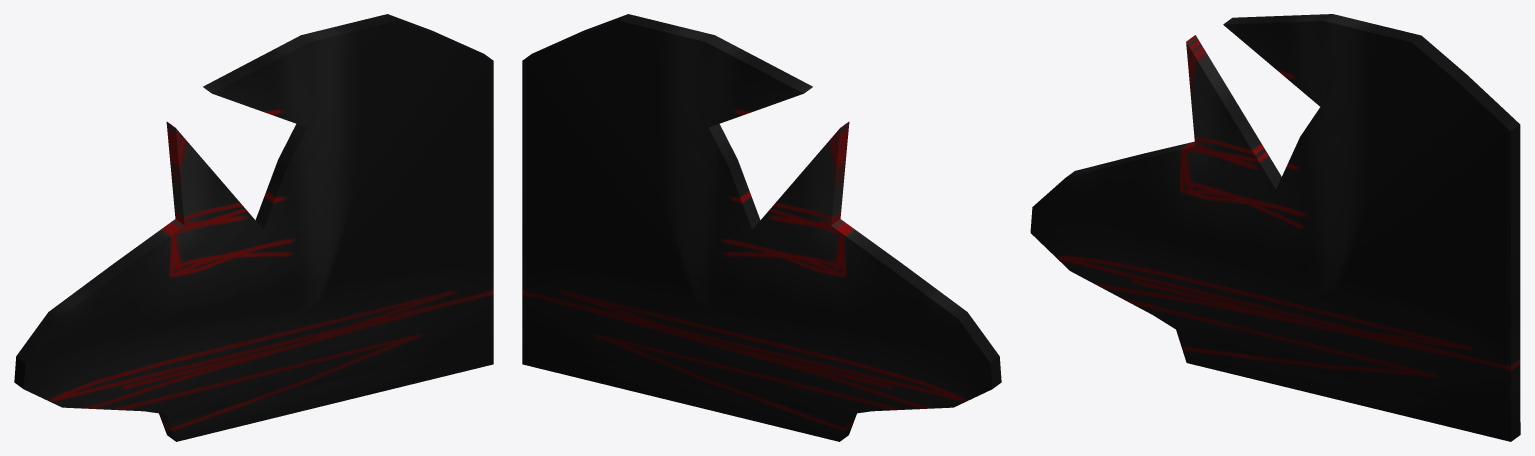
File: Puzzle5.fbx
3 views of the same model, side by side, from view 1: azimuth 30°, elevation 25°; view 2: azimuth 150°, elevation 25°; view 3: azimuth 330°, elevation 25° (orthographic). The views are drawn at different scales.
Visible parts, largest first — view 1: Cube.006; view 2: Cube.006; view 3: Cube.006.
Boxes of the visible parts, x1=… form: Cube.006: x1=14, y1=14, x2=493, y2=441; Cube.006: x1=522, y1=14, x2=1001, y2=441; Cube.006: x1=1030, y1=14, x2=1520, y2=441.
Bounding box in the file's own units: 32.93 × 24.59 × 1.13.
